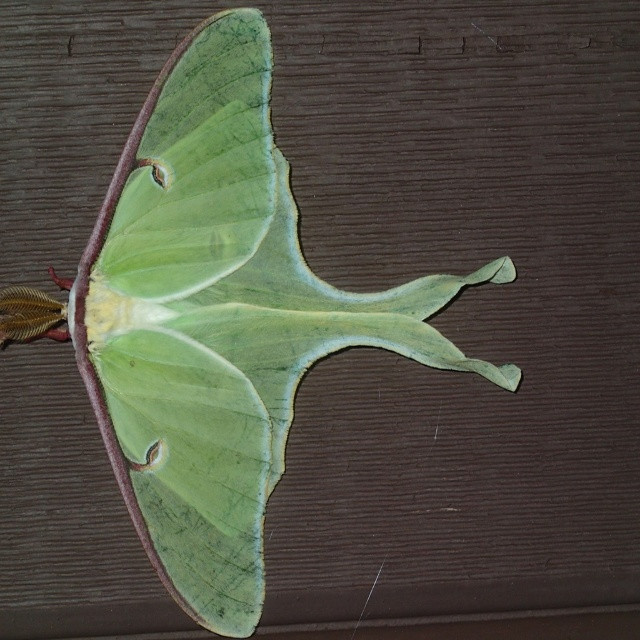Butterfly: (73, 0, 488, 597)
